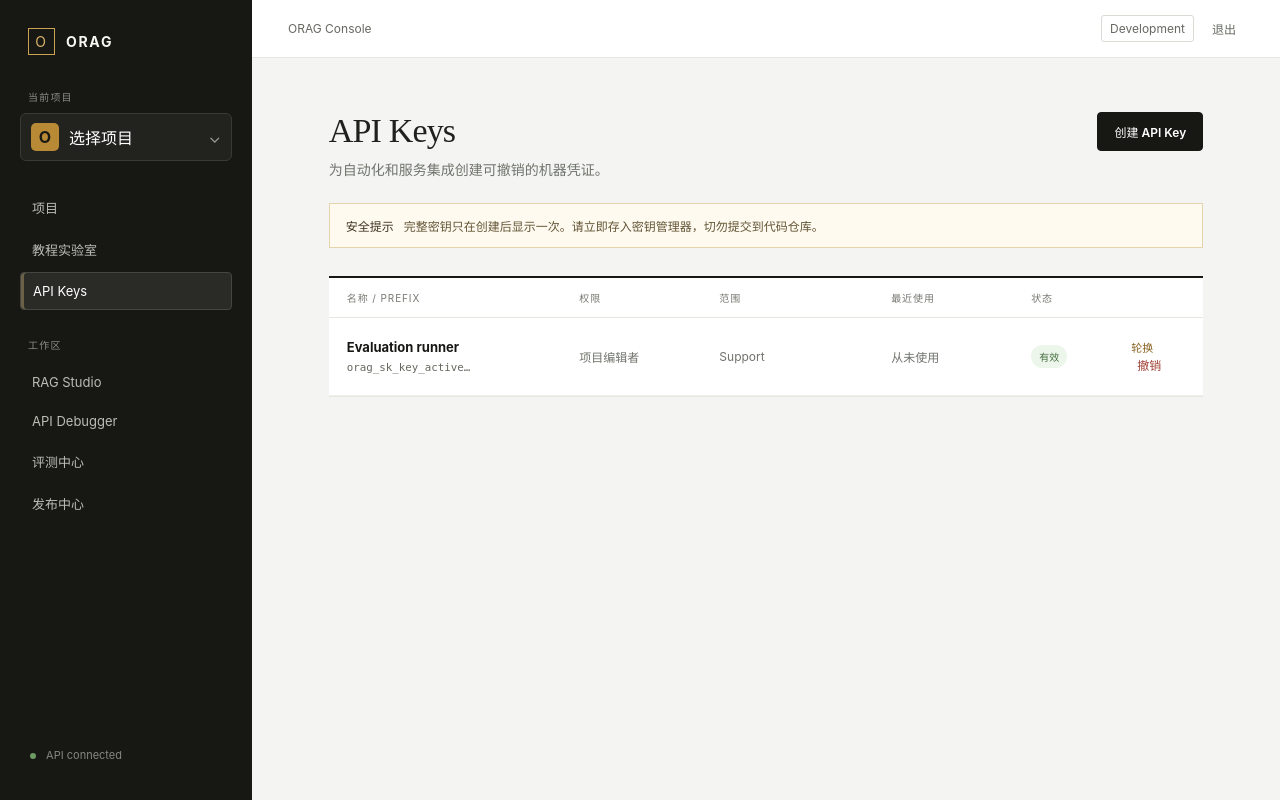
Test: APIKeyList › rotates an active key and displays the replacement secret once
Click the button "轮换" at {"x": 1142, "y": 347}, box x1=1131 y1=339 x2=1153 y2=355
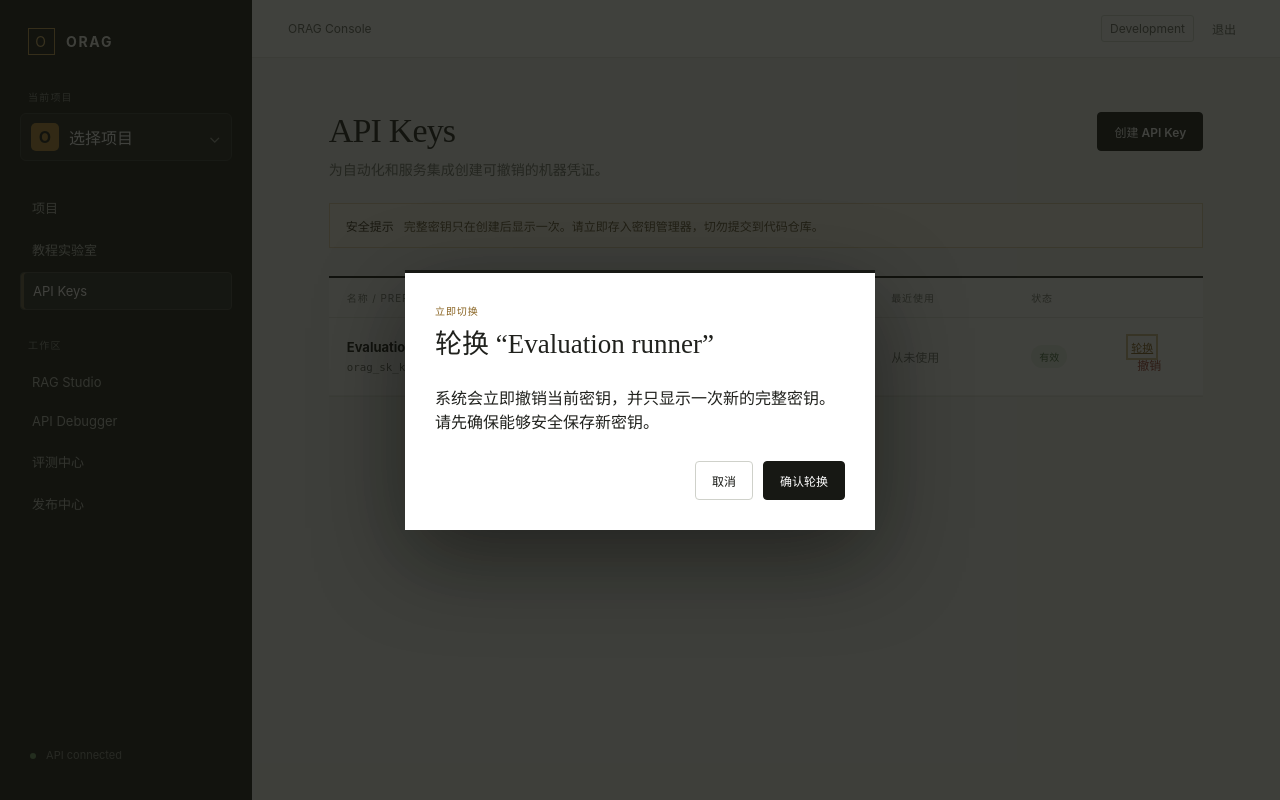
Expected: the text "系统会立即撤销当前密钥，并只显示一次新的完整密钥。请先确保能够安全保存新密钥。" is shown, x1=435 y1=385 x2=845 y2=433
Click the button "确认轮换" at {"x": 804, "y": 481}, box x1=763 y1=461 x2=845 y2=500
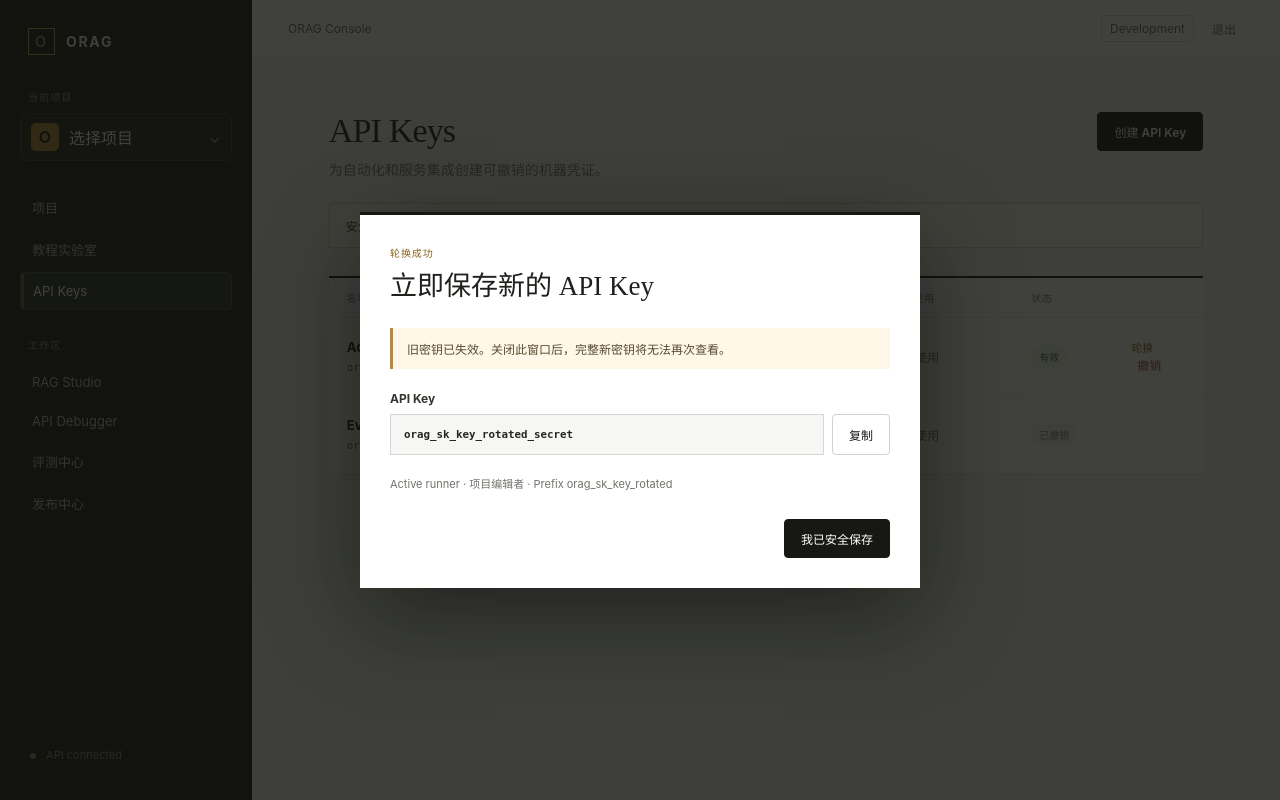
Expected: the text with test id "rotated-api-key-secret" reads "orag_sk_key_rotated_secret", x1=404 y1=428 x2=573 y2=441
Click the button "我已安全保存" at {"x": 837, "y": 538}, box x1=784 y1=519 x2=890 y2=558
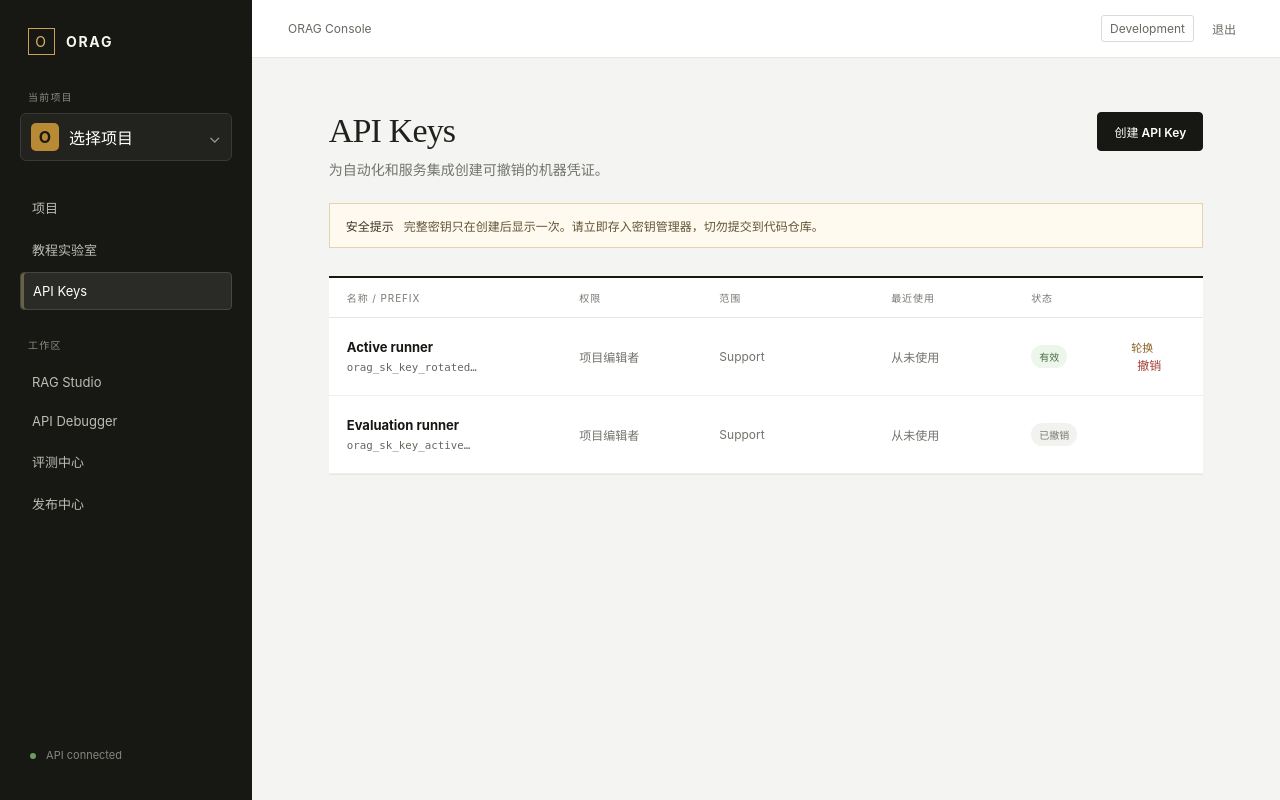
Expected: the text "orag_sk_key_rotated_secret" is gone
